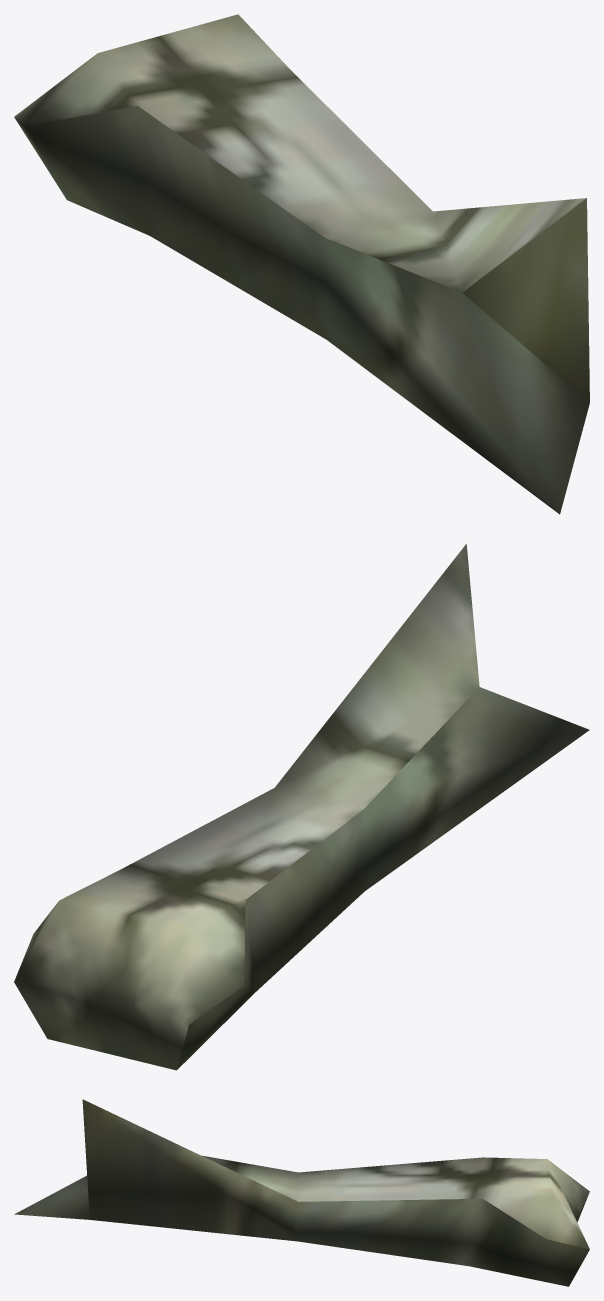
File: dragonspawn_bones_05.fbx
The picture shows the model from 3 angles, top to bottom: view 1: azimuth 30°, elevation 25°; view 2: azimuth 150°, elevation 25°; view 3: azimuth 270°, elevation 25°; orthographic projection. The views are drawn at different scales.
Parts seen in each view (by area): view 1: dragonspawn_bones_mat; view 2: dragonspawn_bones_mat; view 3: dragonspawn_bones_mat.
Boxes of the visible parts, box(x1,y1,x2,y2) form: dragonspawn_bones_mat: box(14, 14, 589, 514); dragonspawn_bones_mat: box(14, 544, 589, 1070); dragonspawn_bones_mat: box(14, 1099, 589, 1286).
Size of the model in its own units: 0.4821 by 0.5406 by 1.68.
